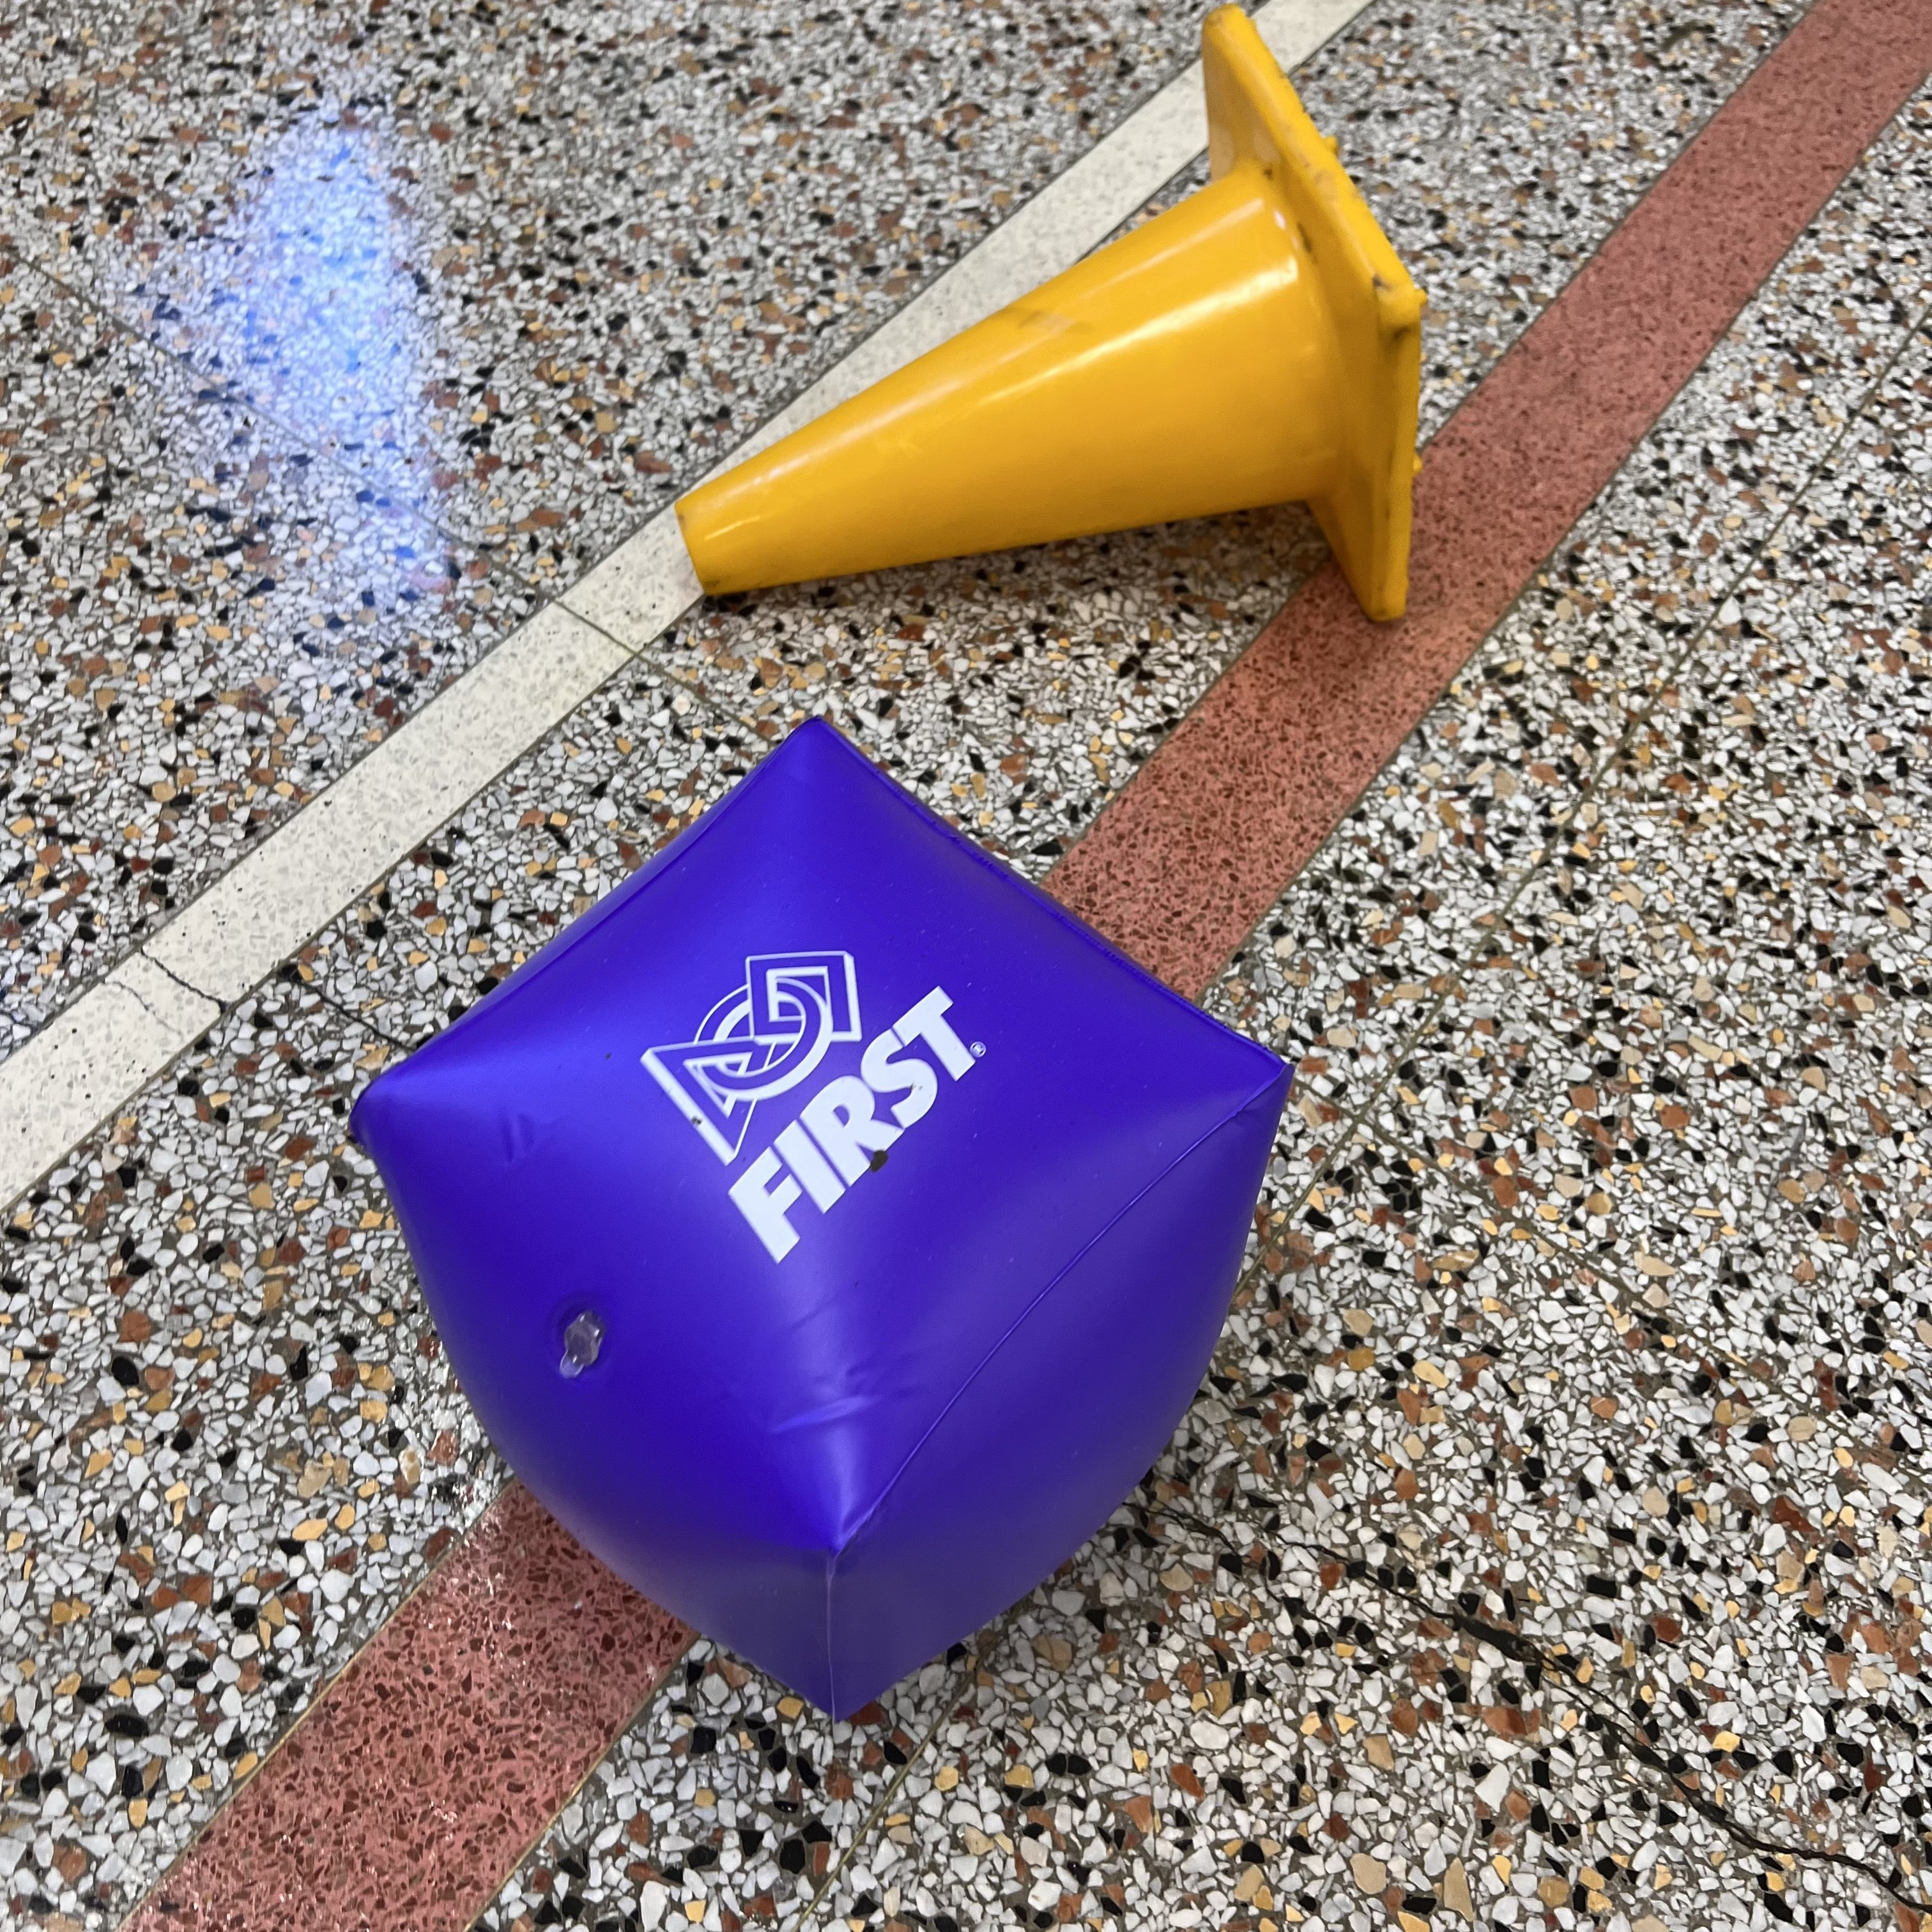cone: (678, 7, 1426, 623)
cube: (350, 720, 1292, 1720)
